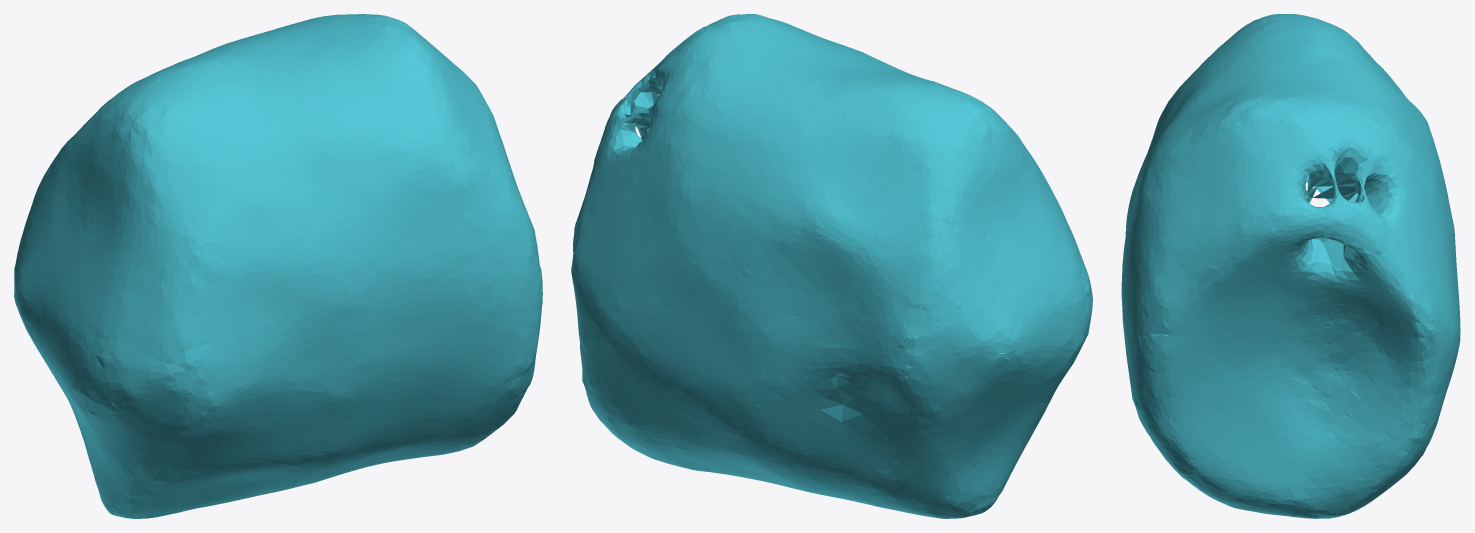
3 renders of one model, left to right at view 1: azimuth 30°, elevation 25°; view 2: azimuth 150°, elevation 25°; view 3: azimuth 270°, elevation 25°, orthographic. The views are drawn at different scales.
Parts seen in each view (by area): view 1: Renderer Node; view 2: Renderer Node; view 3: Renderer Node.
Boxes of the visible parts, x1,y1,x2,y2 form: Renderer Node: (14,14,542,518); Renderer Node: (571,14,1092,518); Renderer Node: (1121,14,1460,518).
Size of the model in its own units: 0.5471 by 0.5344 by 0.406.
Materials: 1 (1 with a texture image).
